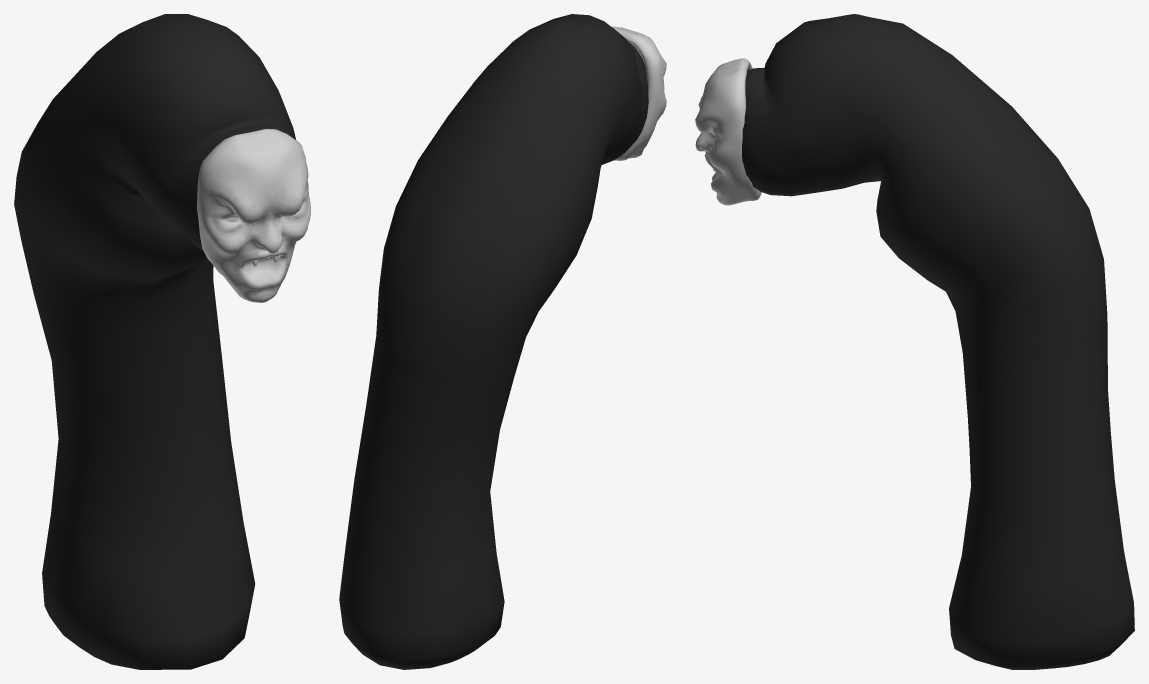
The model's file is Entidad_Estatica.obj.
The picture shows the model from 3 angles, left to right: view 1: azimuth 30°, elevation 25°; view 2: azimuth 150°, elevation 25°; view 3: azimuth 270°, elevation 25°; orthographic projection. The views are drawn at different scales.
Visible parts, largest first — view 1: Object_7, SM_Mask_Anger_07_-_Default_0; view 2: Object_7, SM_Mask_Anger_07_-_Default_0; view 3: Object_7, SM_Mask_Anger_07_-_Default_0.
Part boxes in pixels (x1,y1,x2,y2): Object_7: (14, 14, 295, 669); SM_Mask_Anger_07_-_Default_0: (197, 129, 310, 302); Object_7: (339, 14, 648, 669); SM_Mask_Anger_07_-_Default_0: (611, 26, 666, 160); Object_7: (742, 14, 1134, 669); SM_Mask_Anger_07_-_Default_0: (695, 58, 761, 205).
Size of the model in its own units: 0.5765 by 1.61 by 1.07.
